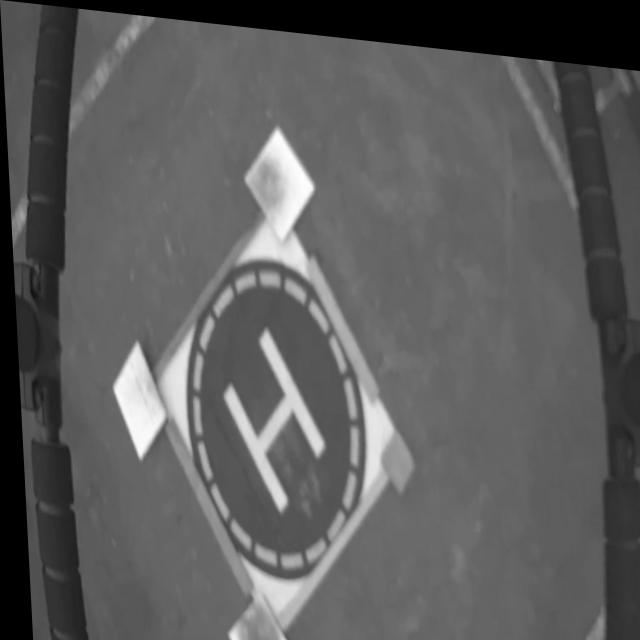Helipad: (218, 325, 322, 512)
